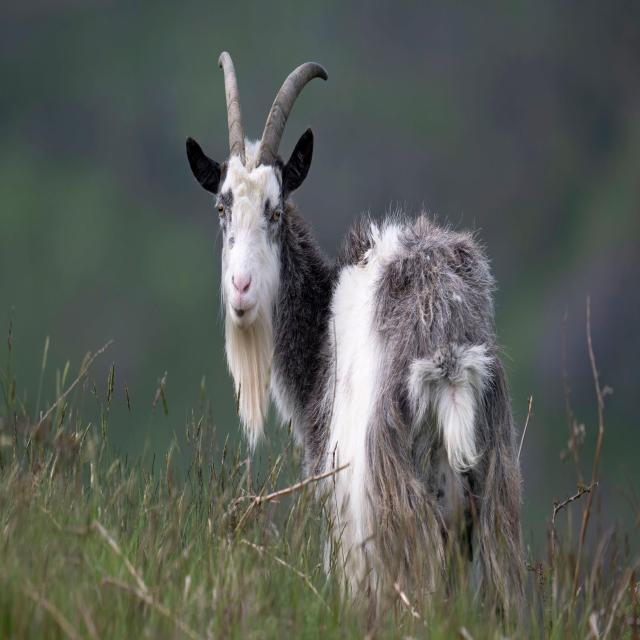Goat: (186, 51, 518, 595)
